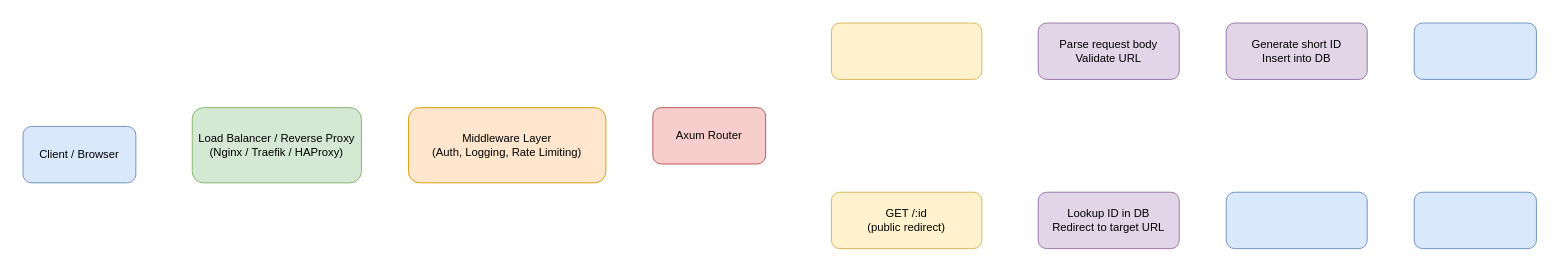
Some shapes in this 1553 by 265 pixel diagram are drawn without their labels. The shapes that lost their labels are listed below. From the top down, each one's box as (x1, y1, x2, y2) in pixels, then its label:
(830, 22, 982, 79): POST / (requires x-api-key)
(1413, 22, 1536, 79): Response: short URL
(1225, 191, 1367, 249): PostgreSQL
(1413, 191, 1536, 249): HTTP redirect
